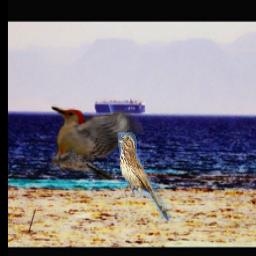Sparrow: (117, 133, 172, 222)
Woodpecker: (51, 105, 145, 181)
